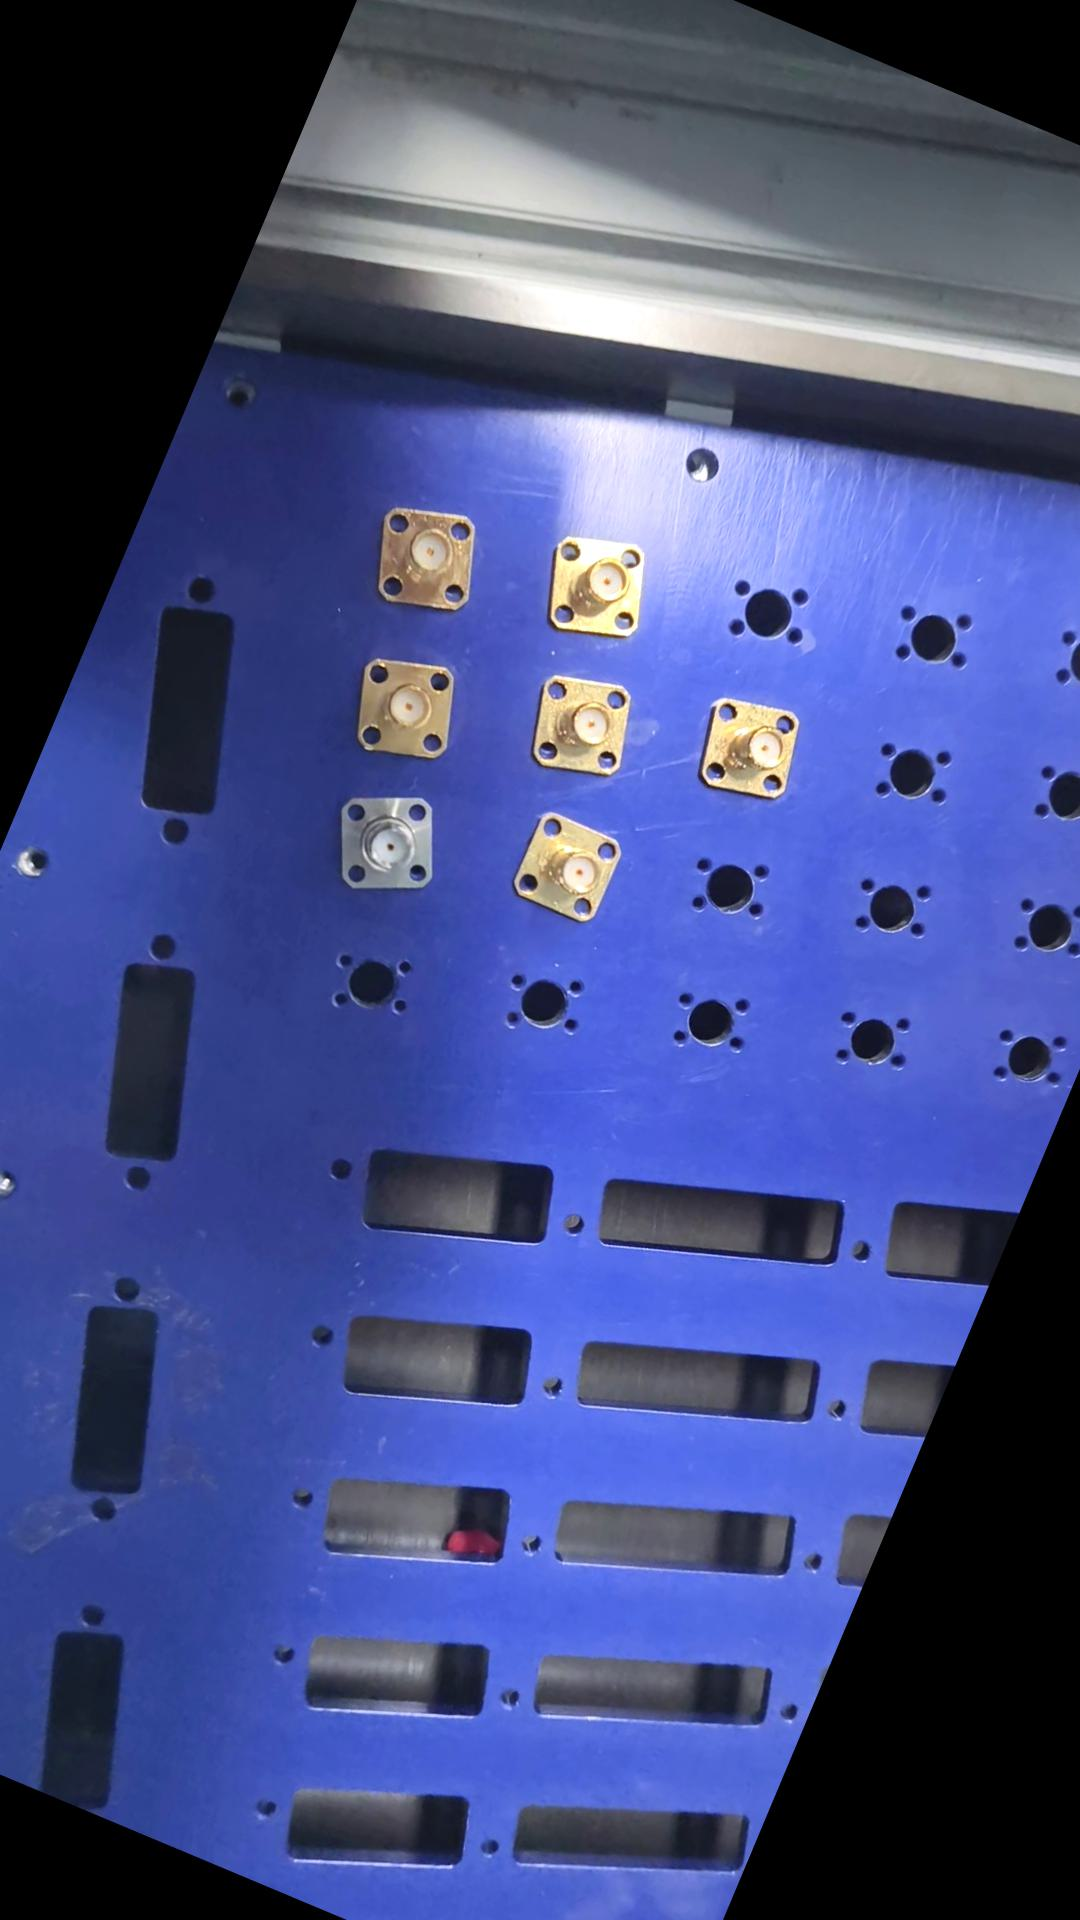SMA: (349, 488, 504, 634), (316, 771, 467, 916), (530, 516, 678, 658), (339, 641, 483, 781), (498, 800, 640, 939), (513, 661, 655, 795), (684, 682, 819, 820)
